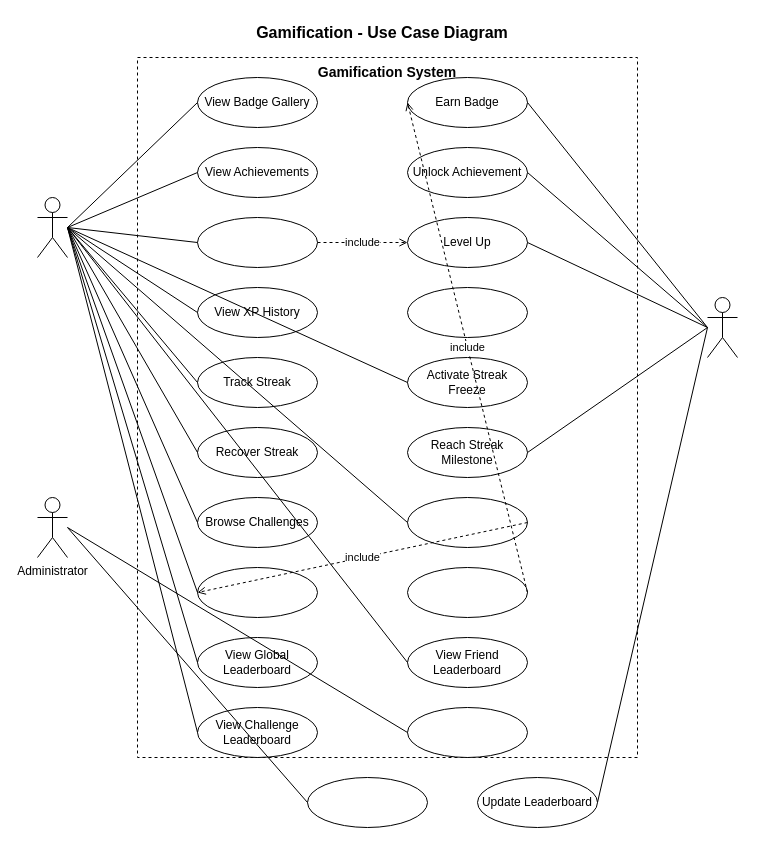
Some shapes in this 760 by 845 pixel diagram are drawn without their labels. Here are the shapes that lost their labels. From the top down, the centre of each, then its label:
At (52,227): "Learner".
At (257,242): "Earn XP".
At (467,312): "Earn Points".
At (722,327): "System".
At (467,522): "Join Challenge".
At (257,592): "Track Challenge Progress".
At (467,592): "Complete Challenge".
At (467,732): "Create Badge".
At (367,802): "Create Challenge".
